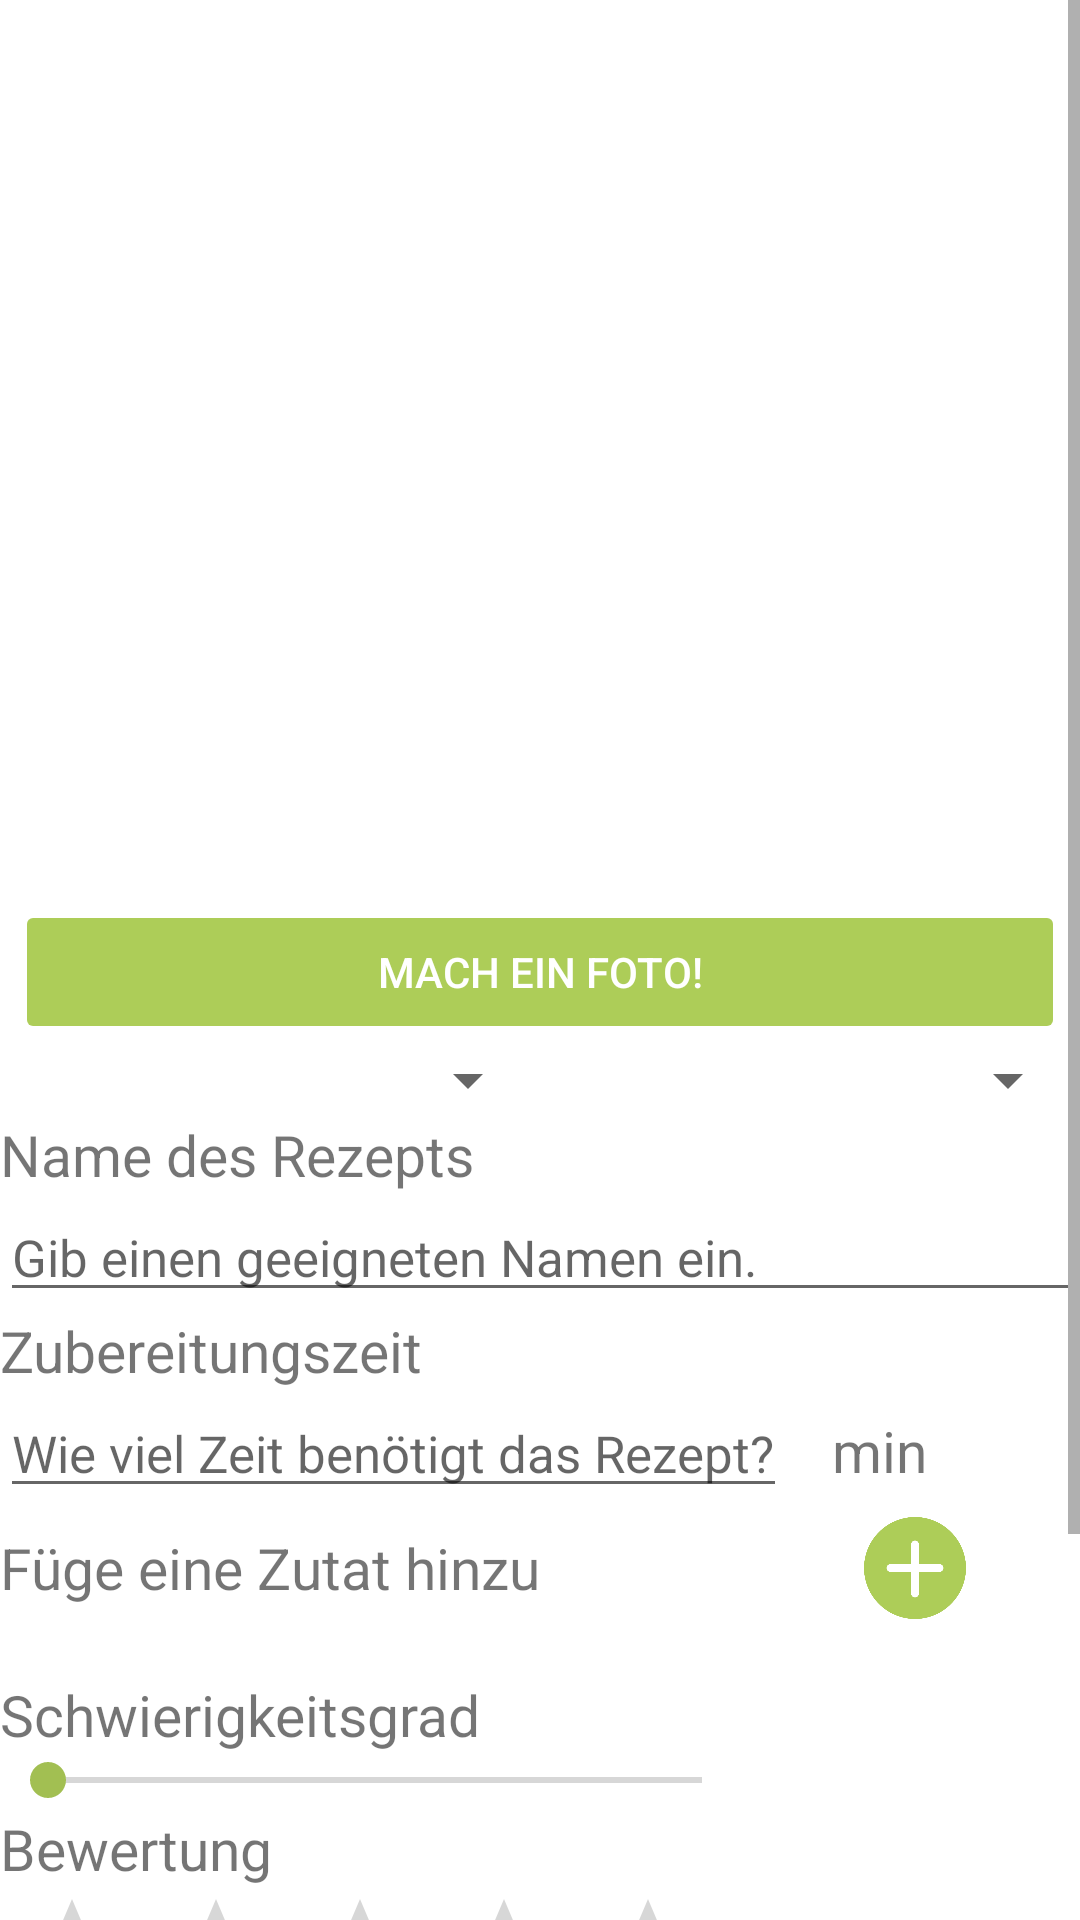

Named icons in this screenshot (1080px×1920px) and their bounding boxes, (x1, y1, x2, y2):
plusround: (864, 1517, 966, 1619)
